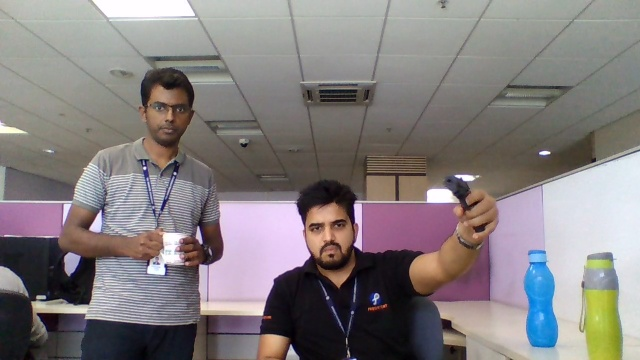gun: (443, 175, 471, 207)
